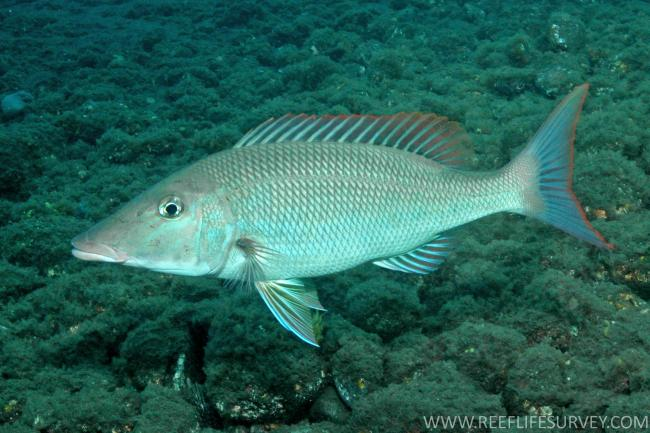fish: (70, 83, 614, 348)
